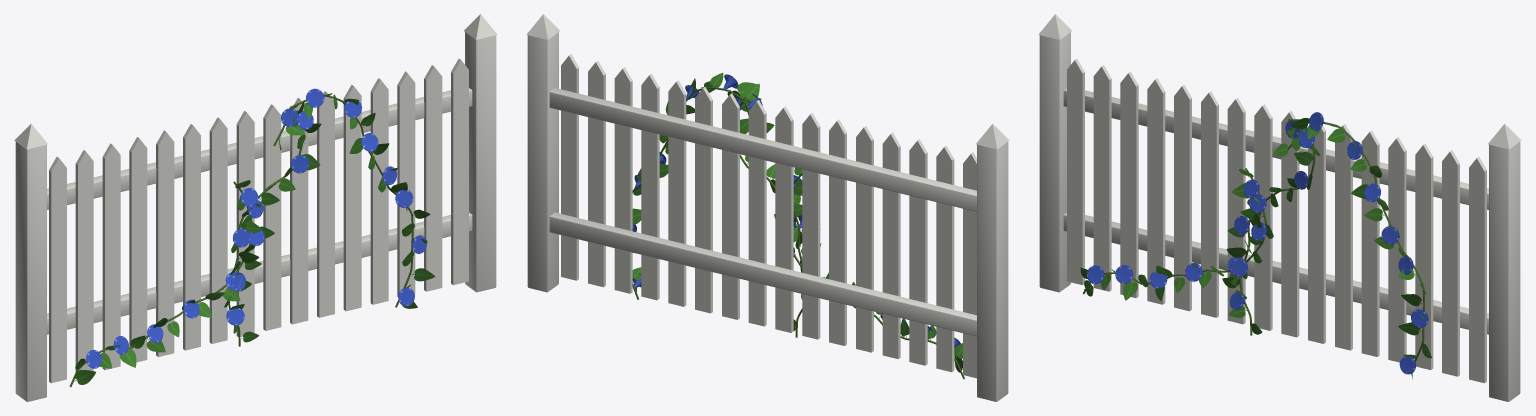
The model's file is morning-glory-fence.glb.
3 renders of one model, left to right at view 1: azimuth 30°, elevation 25°; view 2: azimuth 150°, elevation 25°; view 3: azimuth 330°, elevation 25°, orthographic.
Parts seen in each view (by area): view 1: Morning_Glory_Fence; view 2: Morning_Glory_Fence; view 3: Morning_Glory_Fence.
Boxes of the visible parts, left/top/right/bottom form: Morning_Glory_Fence: left=14, top=14, right=497, bottom=401; Morning_Glory_Fence: left=526, top=14, right=1009, bottom=401; Morning_Glory_Fence: left=1038, top=14, right=1521, bottom=401.
Bounding box in the file's own units: 2.1 × 1.16 × 0.1937.
Materials: 5 (2 with a texture image).
